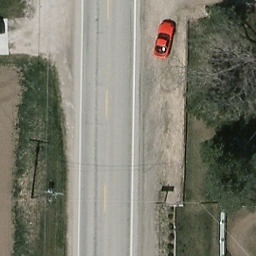car: (151, 19, 173, 60)
